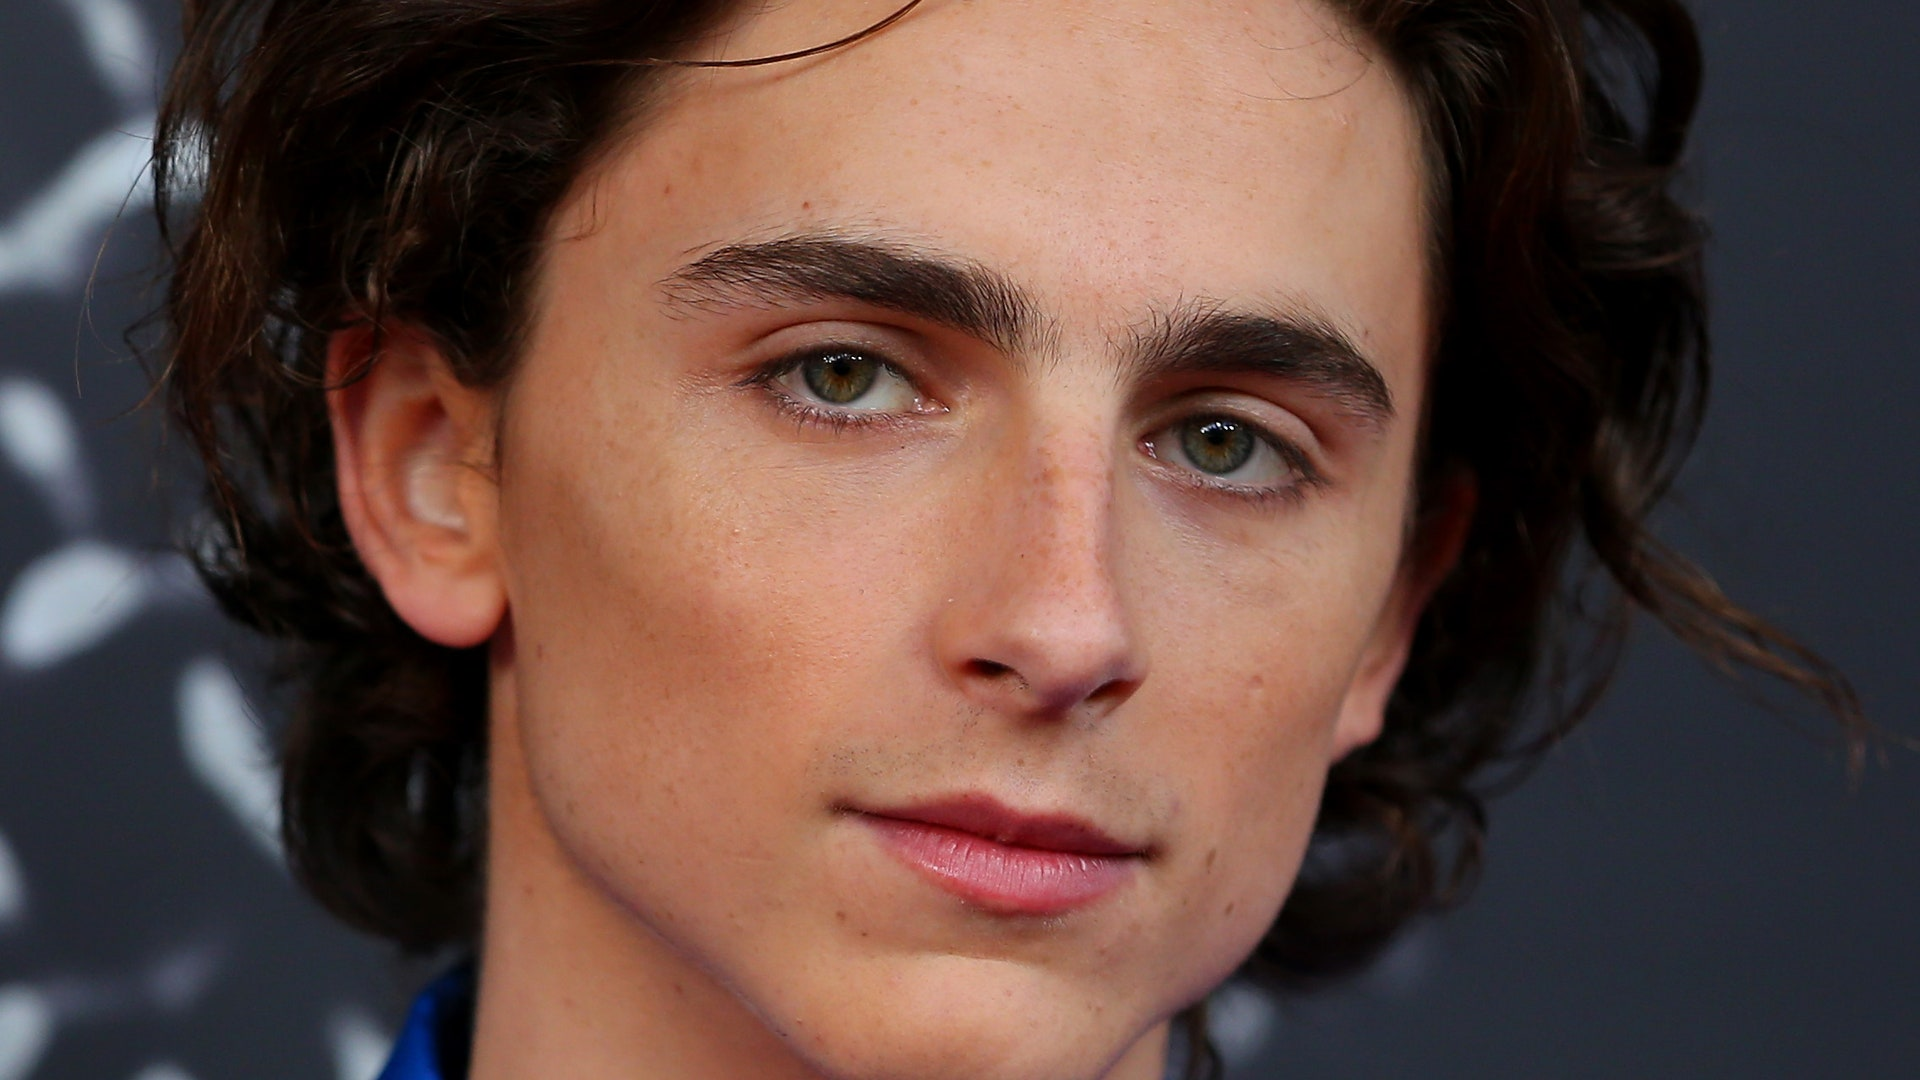bare: (499, 488, 1399, 1080)
